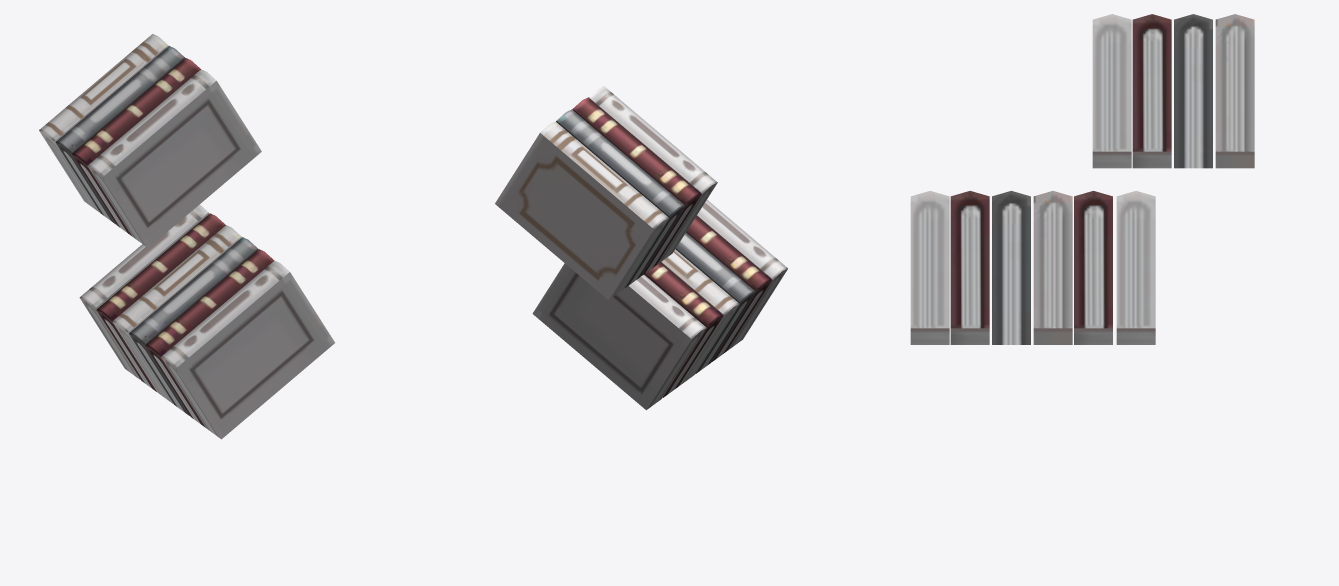
Rendered from my_teaparty_01_bookstand_02.glb.
3 renders of one model, left to right at view 1: azimuth 30°, elevation 25°; view 2: azimuth 150°, elevation 25°; view 3: azimuth 270°, elevation 25°, orthographic. The views are drawn at different scales.
Visible parts, largest first — view 1: my_teaparty_01_bookstand_02; view 2: my_teaparty_01_bookstand_02; view 3: my_teaparty_01_bookstand_02.
Part boxes in pixels (x1,y1,x2,y2): my_teaparty_01_bookstand_02: [39, 34, 334, 439]; my_teaparty_01_bookstand_02: [495, 86, 787, 410]; my_teaparty_01_bookstand_02: [910, 14, 1254, 344].
Size of the model in its own units: 0.00314 by 0.00594 by 0.00515.
Materials: 1 (1 with a texture image).
